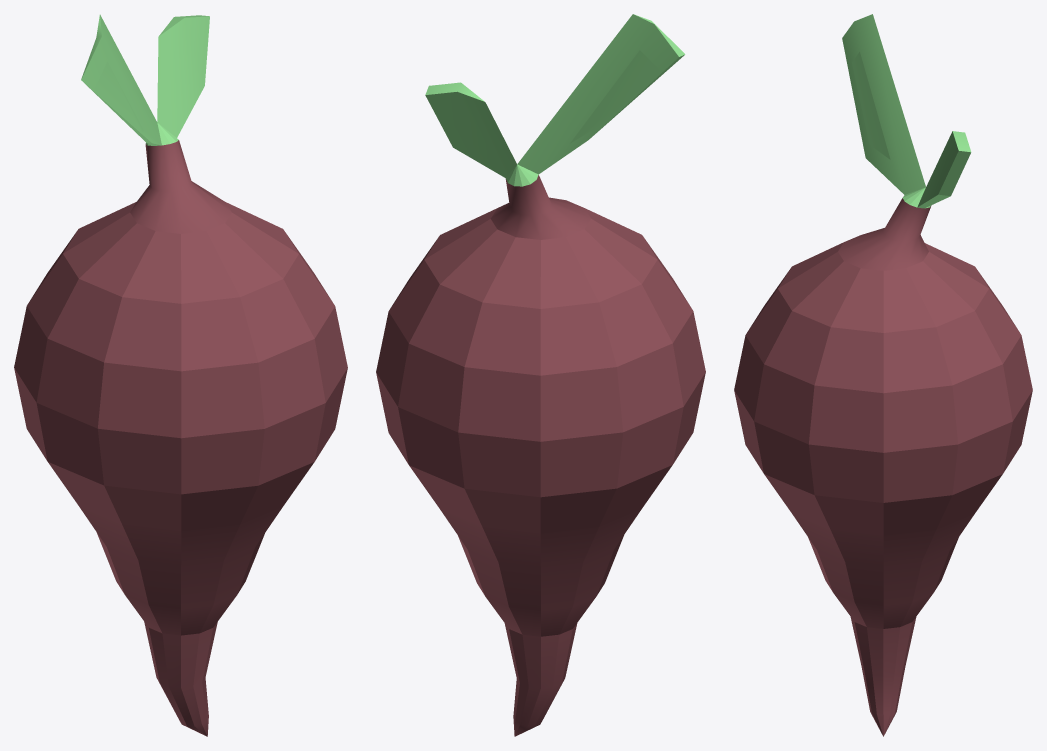
Rendered from Beetroot.fbx.
3 views of the same model, side by side, from view 1: azimuth 30°, elevation 25°; view 2: azimuth 150°, elevation 25°; view 3: azimuth 270°, elevation 25° (orthographic). The views are drawn at different scales.
Visible parts, largest first — view 1: pSphere1; view 2: pSphere1; view 3: pSphere1.
Part boxes in pixels (<box>): pSphere1: <box>14,14,347,736</box>; pSphere1: <box>376,14,705,736</box>; pSphere1: <box>734,14,1032,736</box>.
Bounding box in the file's own units: 1.88 × 4.7 × 1.89.
